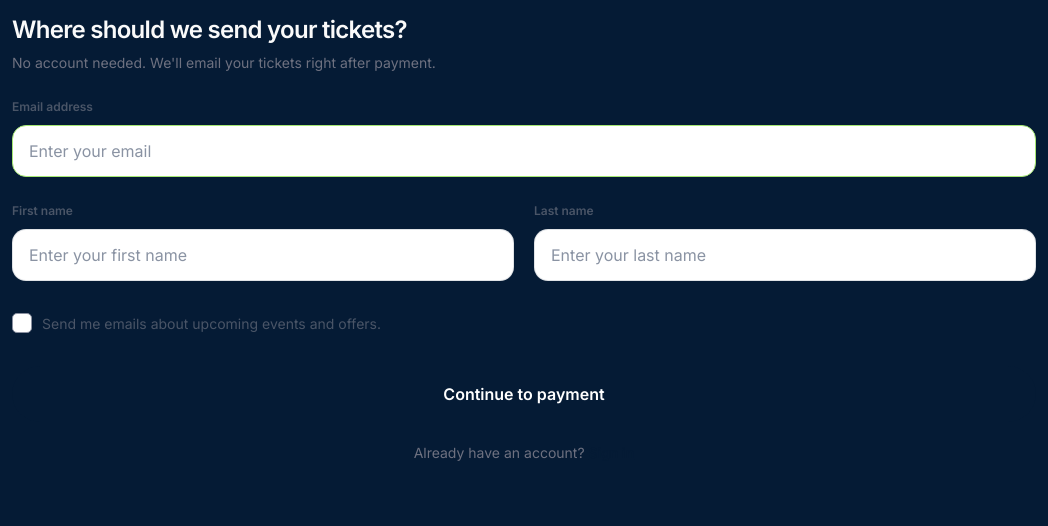
Test case: GuestContact › shows start-failed copy when validate-email returns 400
Type "fan@blocktickets.xyz" into the field labelled "Email address".
click(524, 151); type("fan@blocktickets.xyz")  # box [12,125,1036,177]
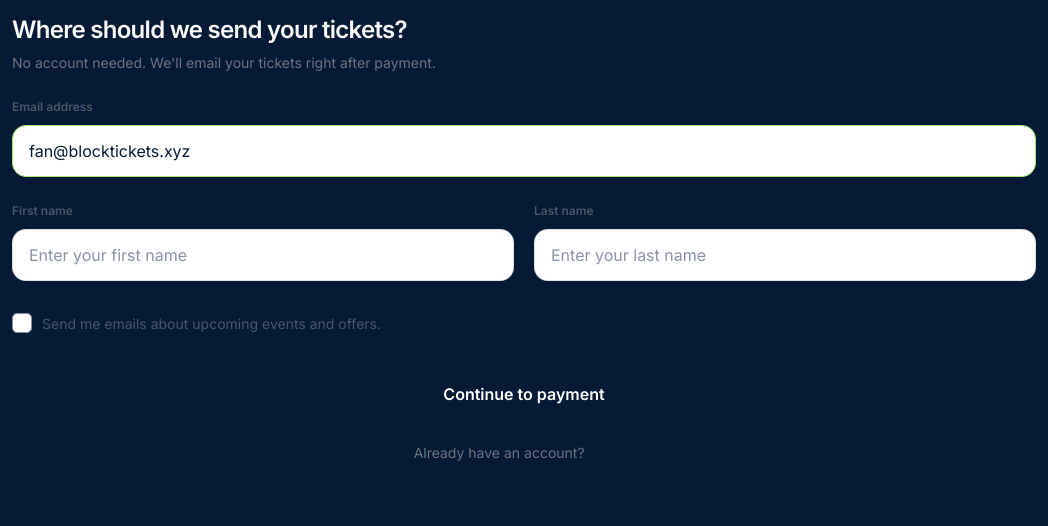
Type "Demo" into the field labelled "First name".
click(263, 255); type("Demo")  # box [12,229,514,281]
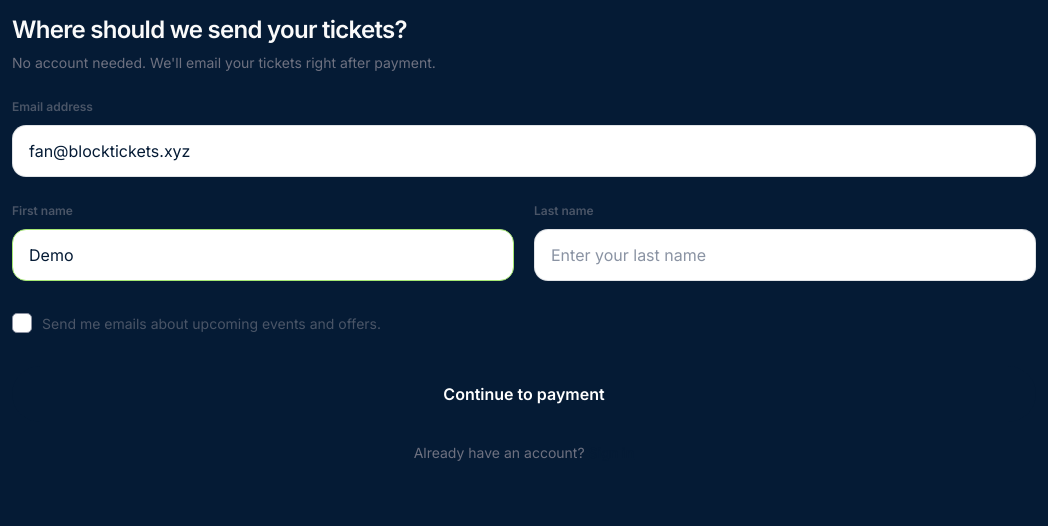
Type "Fan" into the field labelled "Last name".
click(785, 255); type("Fan")  # box [534,229,1036,281]
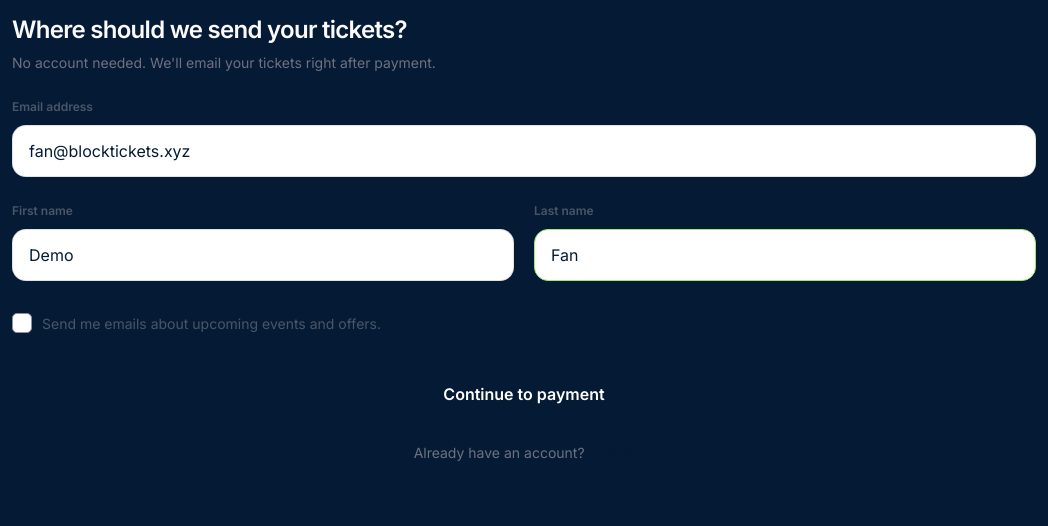
Click the button "Continue to payment".
click(524, 394)  # box [12,366,1036,422]
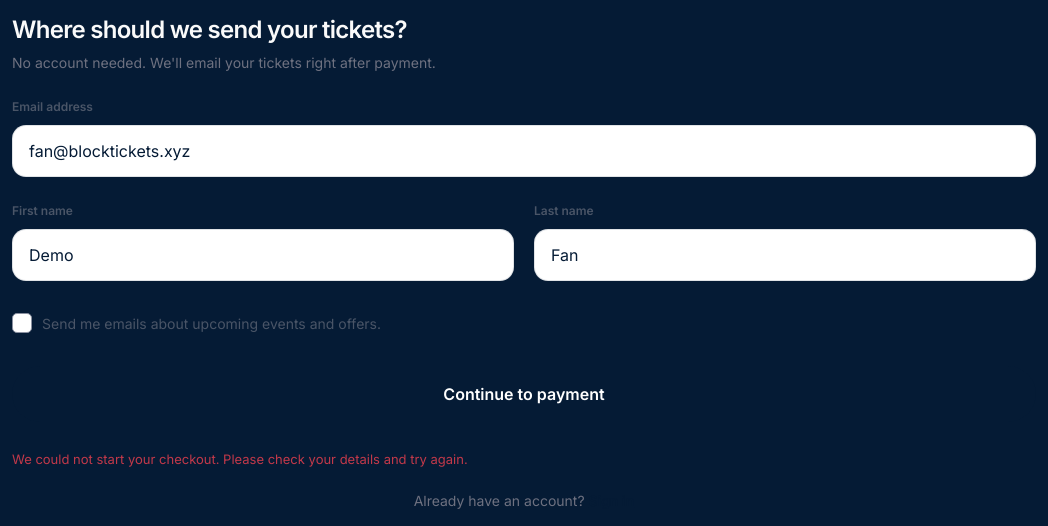
Expected: the heading "Where should we send your tickets?" is shown, [12,15,407,44]
Now the message reads "We could not start your checkout. Please check your details and try again.", box [12,451,468,467]
